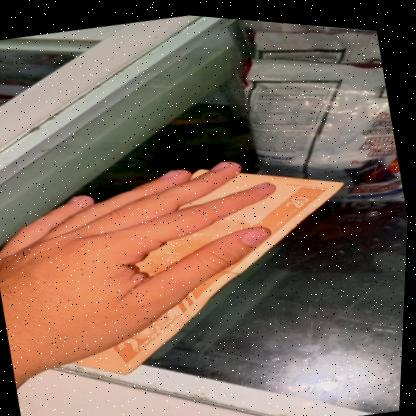vef_back: (30, 123, 381, 399)
